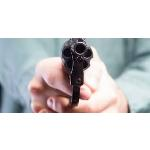Pistol: (61, 38, 92, 106)
